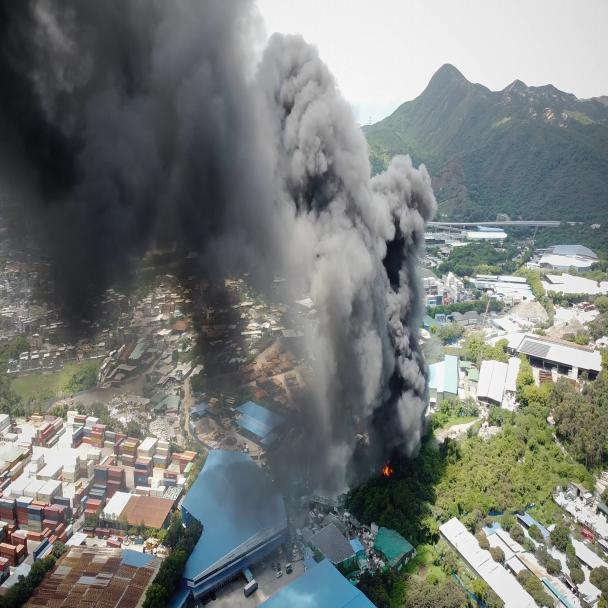Fire: (361, 454, 400, 485)
smoke: (7, 11, 439, 432)
